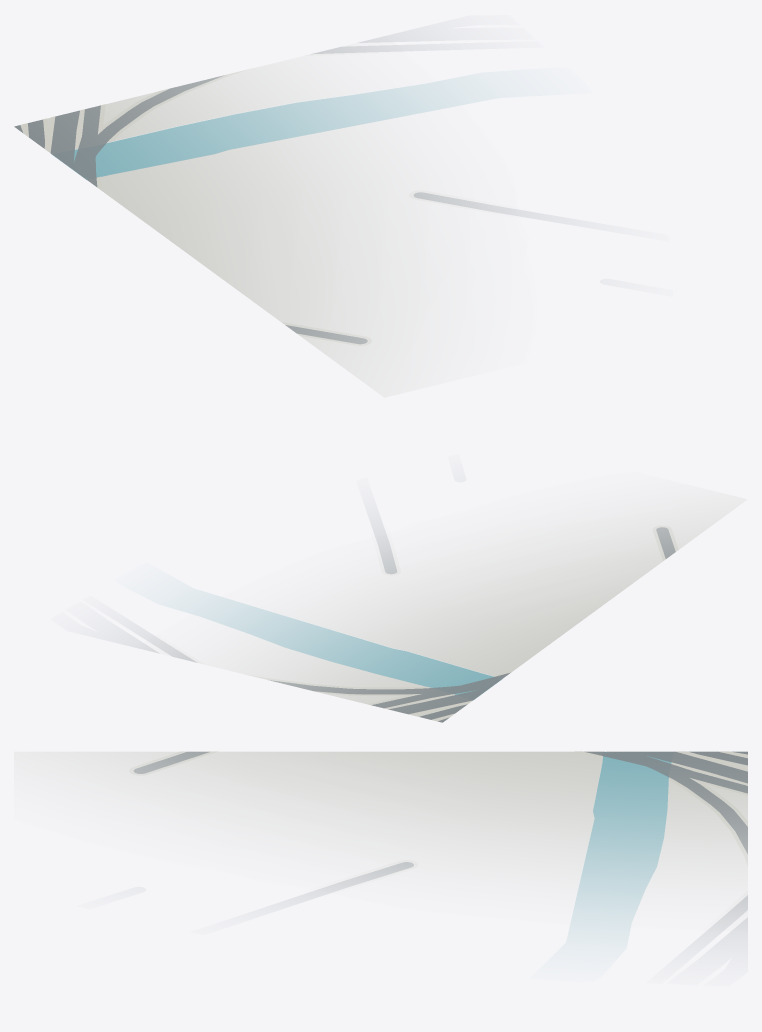
3 views of the same model, one above another, from view 1: azimuth 30°, elevation 25°; view 2: azimuth 150°, elevation 25°; view 3: azimuth 270°, elevation 25° (orthographic). The views are drawn at different scales.
Parts seen in each view (by area): view 1: city; view 2: city; view 3: city.
Part boxes in pixels (x1,y1,x2,y2): city: (14,31,555,397); city: (120,491,746,722); city: (14,751,747,940).
Bounding box in the file's own units: 428 × 0.4 × 500.
